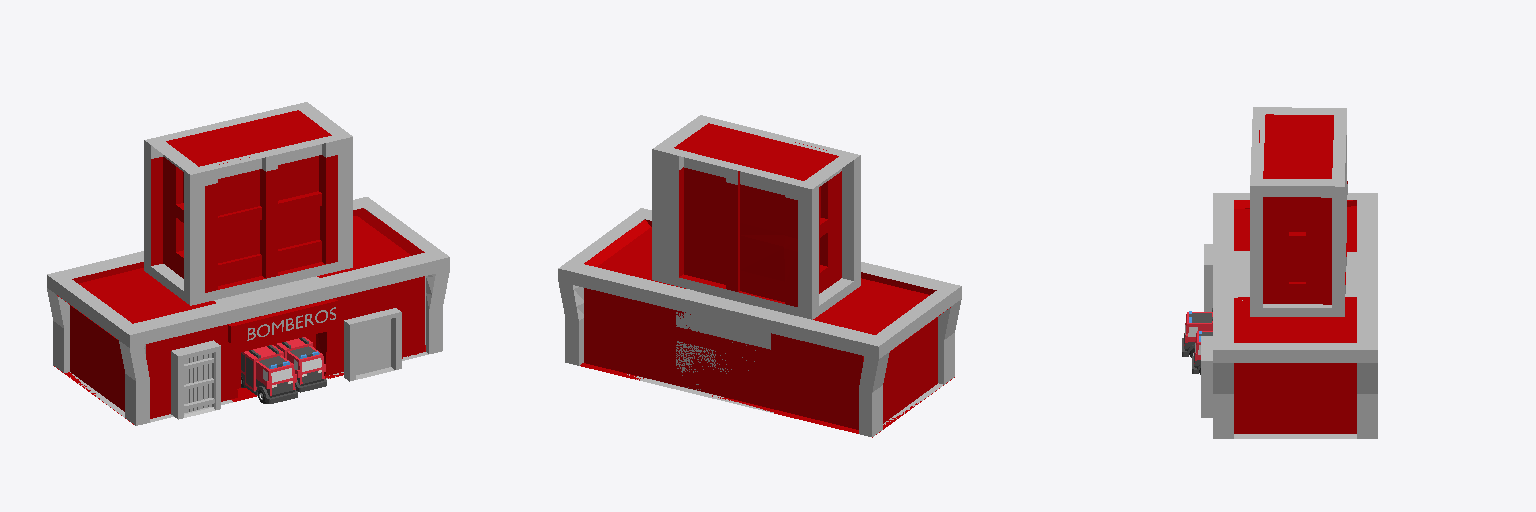
File: bomberos.obj
3 renders of one model, left to right at view 1: azimuth 30°, elevation 25°; view 2: azimuth 150°, elevation 25°; view 3: azimuth 270°, elevation 25°, orthographic.
Parts seen in each view (by area): view 1: Plano.004, Cubo.002, VENTANA_IZ_Cubo.001, VENTANA_DERECHA_Cubo, firetruck, firetruck.001; view 2: Plano.004, Cubo.002; view 3: Plano.004, Cubo.002, VENTANA_IZ_Cubo.001, firetruck, VENTANA_DERECHA_Cubo.
Part boxes in pixels (x1,y1,x2,y2): Plano.004: (47, 197, 449, 425); Cubo.002: (144, 102, 352, 305); VENTANA_IZ_Cubo.001: (344, 308, 401, 381); VENTANA_DERECHA_Cubo: (171, 340, 220, 419); firetruck: (241, 345, 297, 403); firetruck.001: (276, 337, 326, 392); Plano.004: (558, 208, 961, 437); Cubo.002: (652, 115, 860, 319); Plano.004: (1213, 193, 1377, 438); Cubo.002: (1250, 107, 1347, 316); VENTANA_IZ_Cubo.001: (1201, 336, 1212, 417); firetruck: (1182, 308, 1212, 357); VENTANA_DERECHA_Cubo: (1204, 244, 1212, 311).
Size of the model in its own units: 7.35 by 4.82 by 3.91.